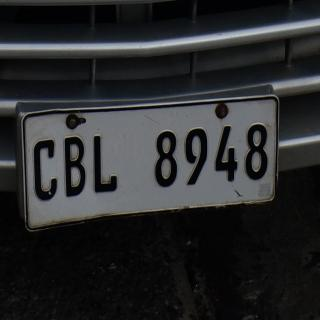license: (24, 97, 280, 231)
